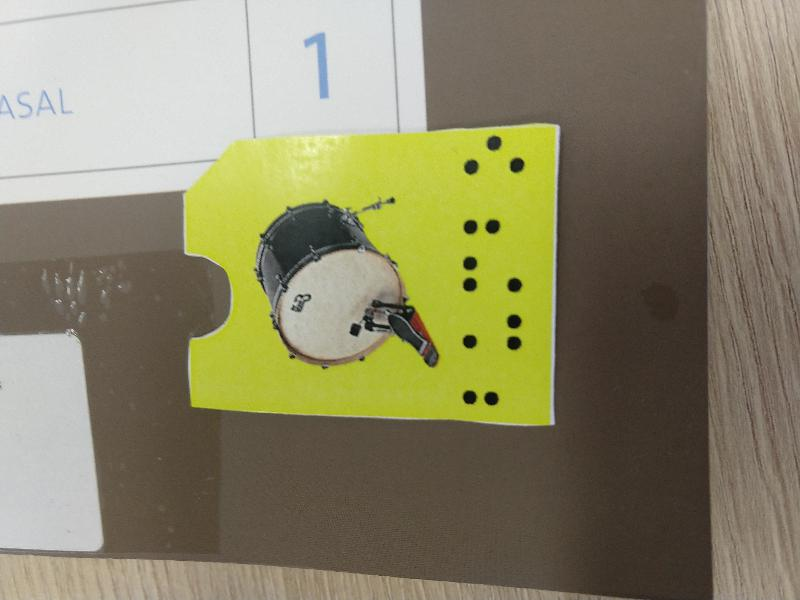bumbo: (183, 118, 559, 432)
